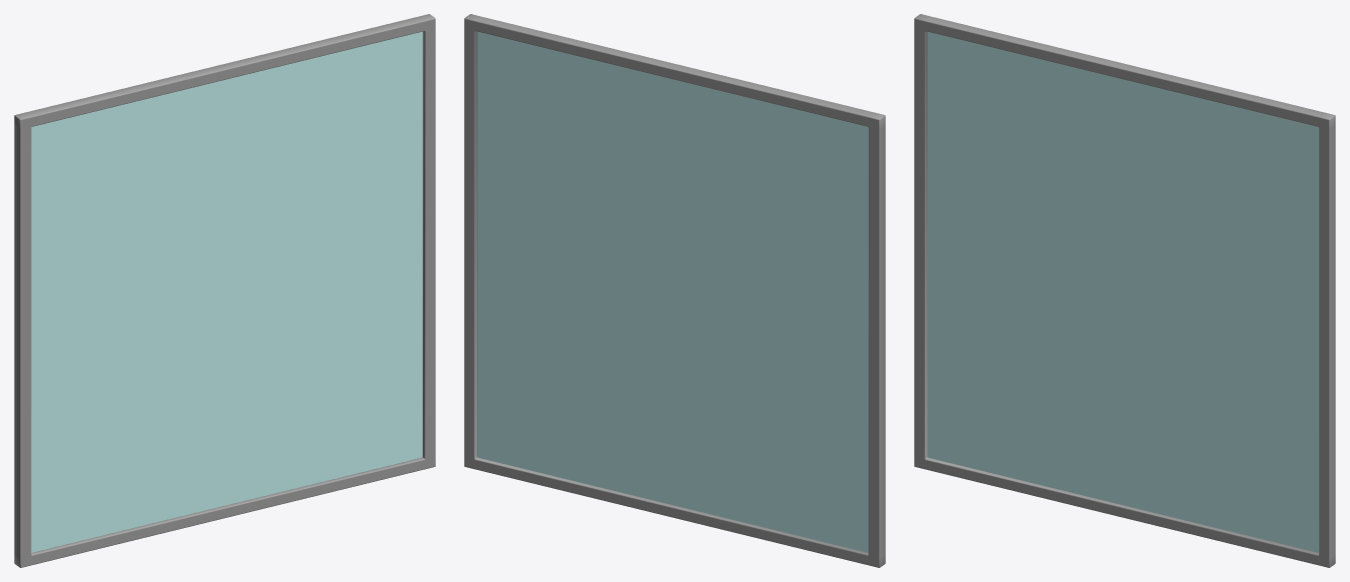
The model's file is SM_Window.FBX.
The picture shows the model from 3 angles, left to right: view 1: azimuth 30°, elevation 25°; view 2: azimuth 150°, elevation 25°; view 3: azimuth 330°, elevation 25°; orthographic projection.
Parts seen in each view (by area): view 1: SM_Window; view 2: SM_Window; view 3: SM_Window.
Boxes of the visible parts, box(x1,y1,x2,y2) form: SM_Window: box(14, 14, 435, 567); SM_Window: box(464, 14, 885, 567); SM_Window: box(914, 14, 1335, 567).
Size of what is drawn, in the model's own units: 174 by 4.59 by 180.
